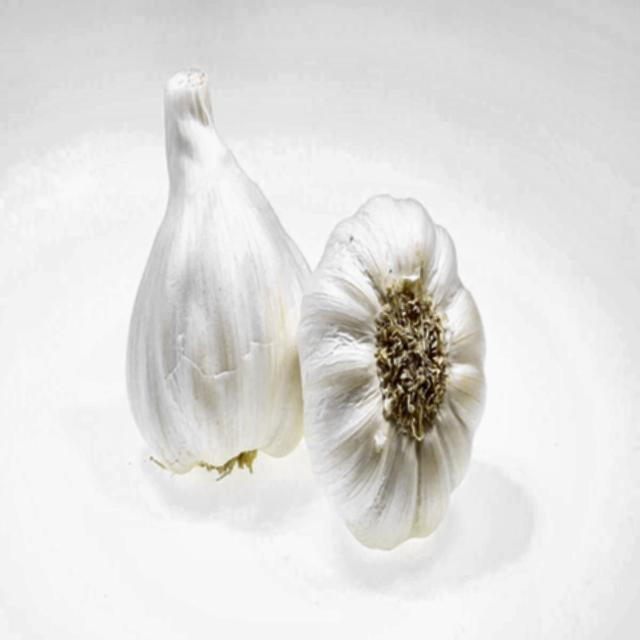garlic: (128, 71, 310, 474), (299, 195, 485, 548)
